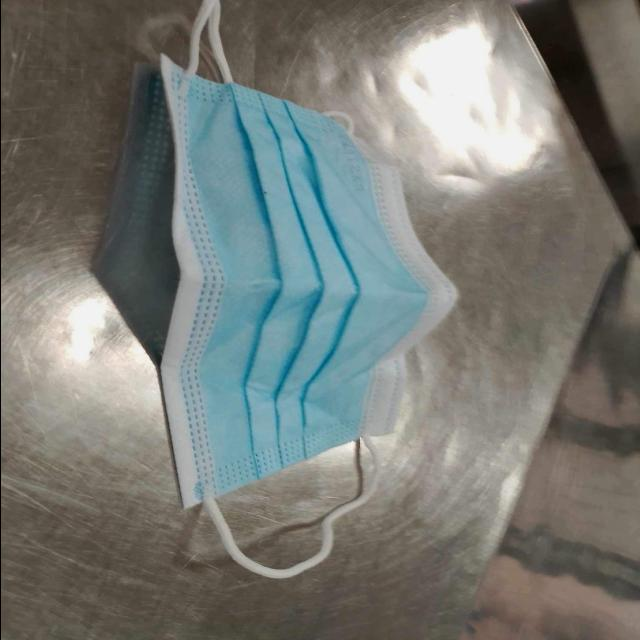Pathological: (92, 54, 458, 512)
Sharps: (196, 354, 406, 580)
